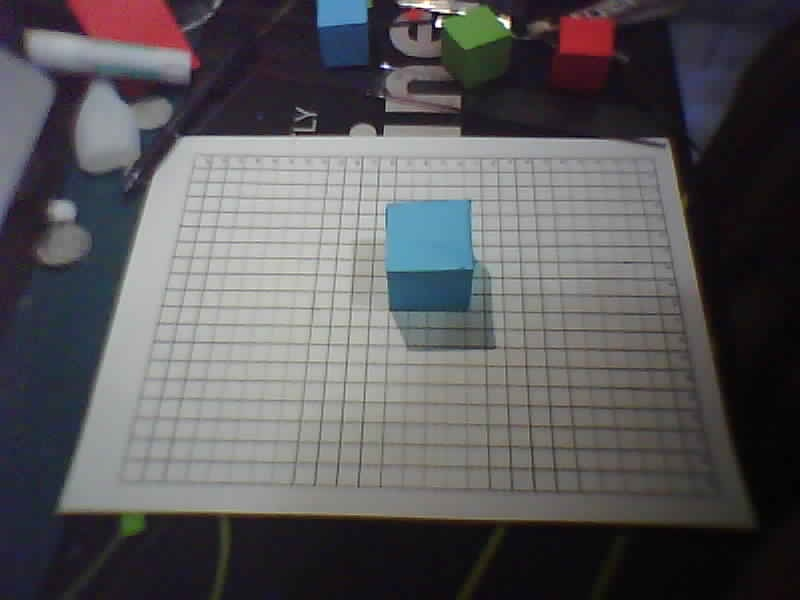blue(4x4x4): (371, 191, 488, 316)
